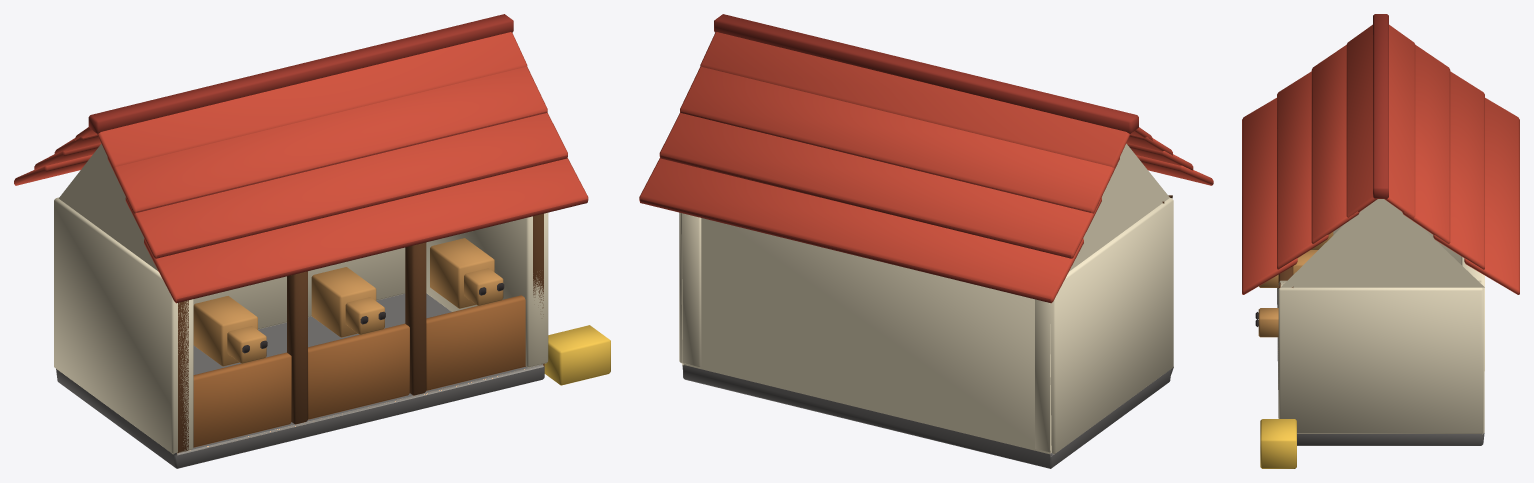
Rendered from B_MedStables.fbx.
The picture shows the model from 3 angles, left to right: view 1: azimuth 30°, elevation 25°; view 2: azimuth 150°, elevation 25°; view 3: azimuth 270°, elevation 25°; orthographic projection. The views are drawn at different scales.
Parts seen in each view (by area): view 1: M_Stables; view 2: M_Stables; view 3: M_Stables.
Part boxes in pixels (x1,y1,x2,y2): M_Stables: [14, 14, 610, 468]; M_Stables: [639, 14, 1213, 468]; M_Stables: [1242, 14, 1519, 468].
Size of the model in its own units: 6.08 by 4.06 by 3.8.
Materials: 1 (1 with a texture image).
